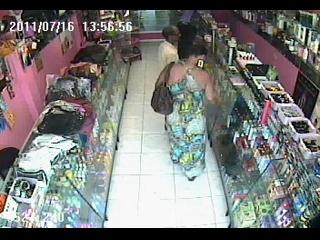Normal: (154, 46, 220, 181), (151, 62, 175, 116), (158, 25, 182, 71)
